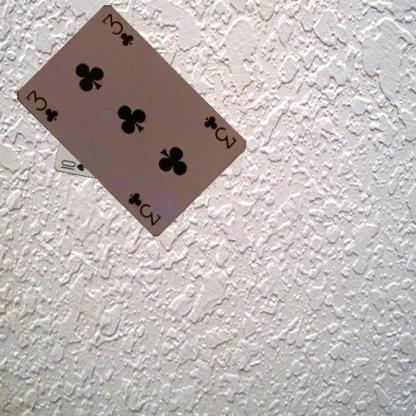10s: (58, 157, 87, 173)
3c: (22, 86, 60, 124), (200, 113, 238, 150)
